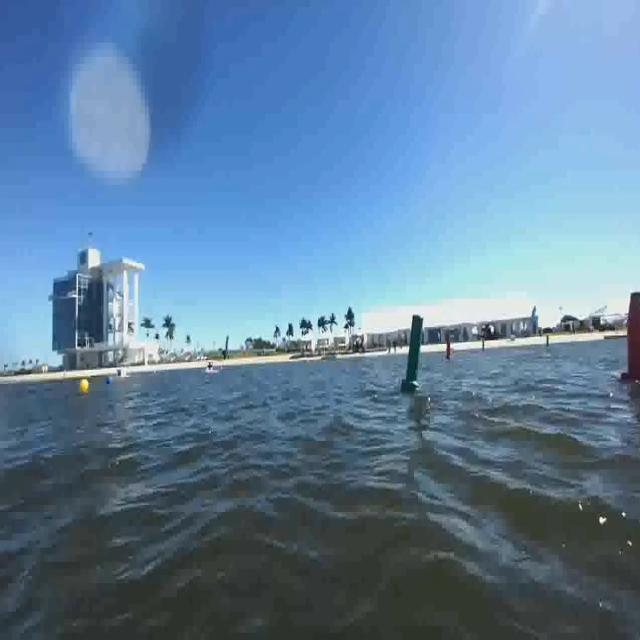green-column-buoy: (404, 313, 429, 392)
red-column-buoy: (621, 289, 640, 387), (444, 334, 455, 362)
yellow-buoy: (79, 378, 89, 395)
